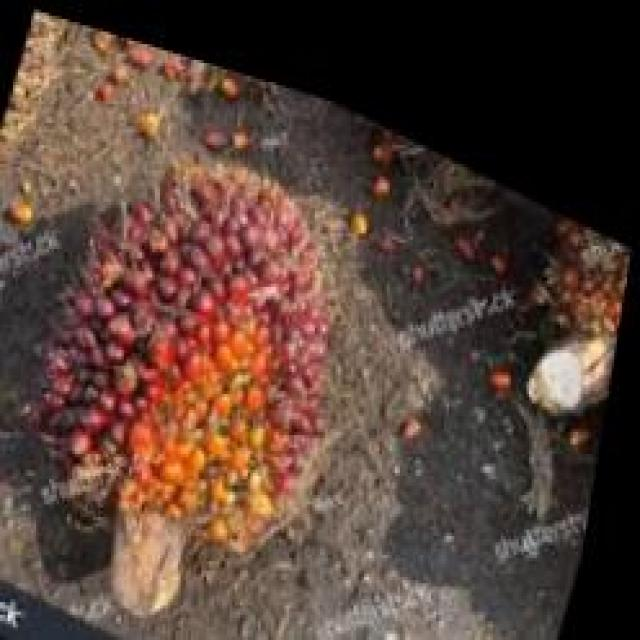Ripefruit: (6, 81, 388, 632)
